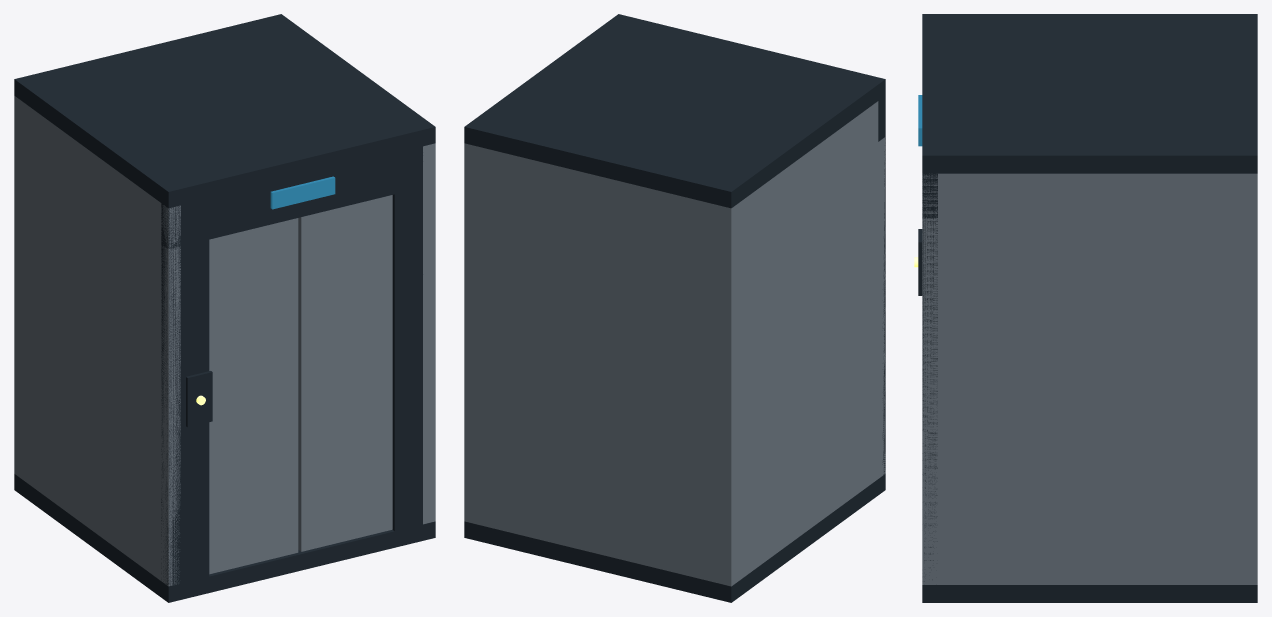
Rendered from elevator-car-lod0.glb.
3 views of the same model, side by side, from view 1: azimuth 30°, elevation 25°; view 2: azimuth 150°, elevation 25°; view 3: azimuth 270°, elevation 25° (orthographic). The views are drawn at different scales.
Parts seen in each view (by area): view 1: side-wall (×2), door-leaf (×2), ceiling, door-post (×2), lintel, floor, back-wall, call-panel, floor-display; view 2: back-wall, side-wall (×2), ceiling, floor, door-post; view 3: side-wall, ceiling, back-wall, floor, door-post, lintel.
Part boxes in pixels (x1,y1,x2,y2): side-wall (×2): (19,101,435,586); door-leaf (×2): (209,195,392,574); ceiling: (14,14,435,208); door-post (×2): (161,146,422,585); lintel: (161,147,422,248); floor: (14,474,435,602); back-wall: (14,96,21,478); call-panel: (186,371,212,427); floor-display: (270,176,335,209); back-wall: (464,144,738,586); side-wall (×2): (464,101,885,586); ceiling: (464,14,885,208); floor: (464,474,885,602); door-post: (882,137,885,474); side-wall: (922,173,1256,584); ceiling: (922,14,1257,173); back-wall: (1242,173,1257,584); floor: (922,585,1257,602); door-post: (922,174,937,581); lintel: (922,173,937,218).
Bounding box in the file's own units: 1.7 × 2.5 × 1.74.
